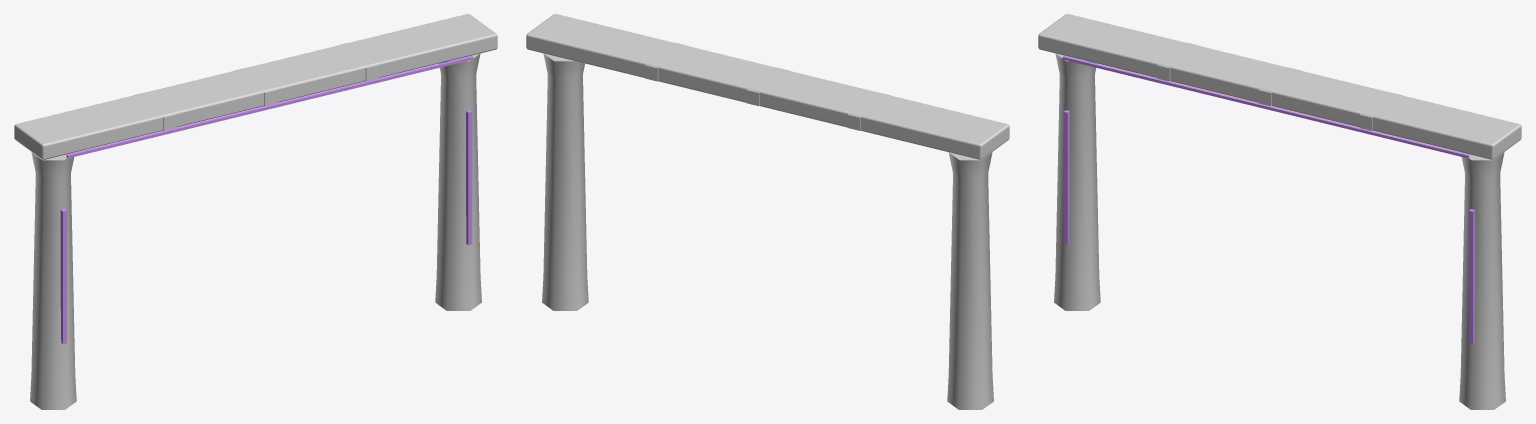
The model's file is ChaosServiceDetail.glb.
3 views of the same model, side by side, from view 1: azimuth 30°, elevation 25°; view 2: azimuth 150°, elevation 25°; view 3: azimuth 330°, elevation 25° (orthographic).
Visible parts, largest first — view 1: Body, Glow; view 2: Body; view 3: Body, Glow.
Part boxes in pixels (x1,y1,x2,y2): Body: (14, 14, 497, 409); Glow: (60, 56, 473, 343); Body: (526, 14, 1009, 409); Body: (1038, 14, 1521, 409); Glow: (1062, 56, 1475, 343).
Bounding box in the file's own units: 18 × 10.3 × 2.1.
